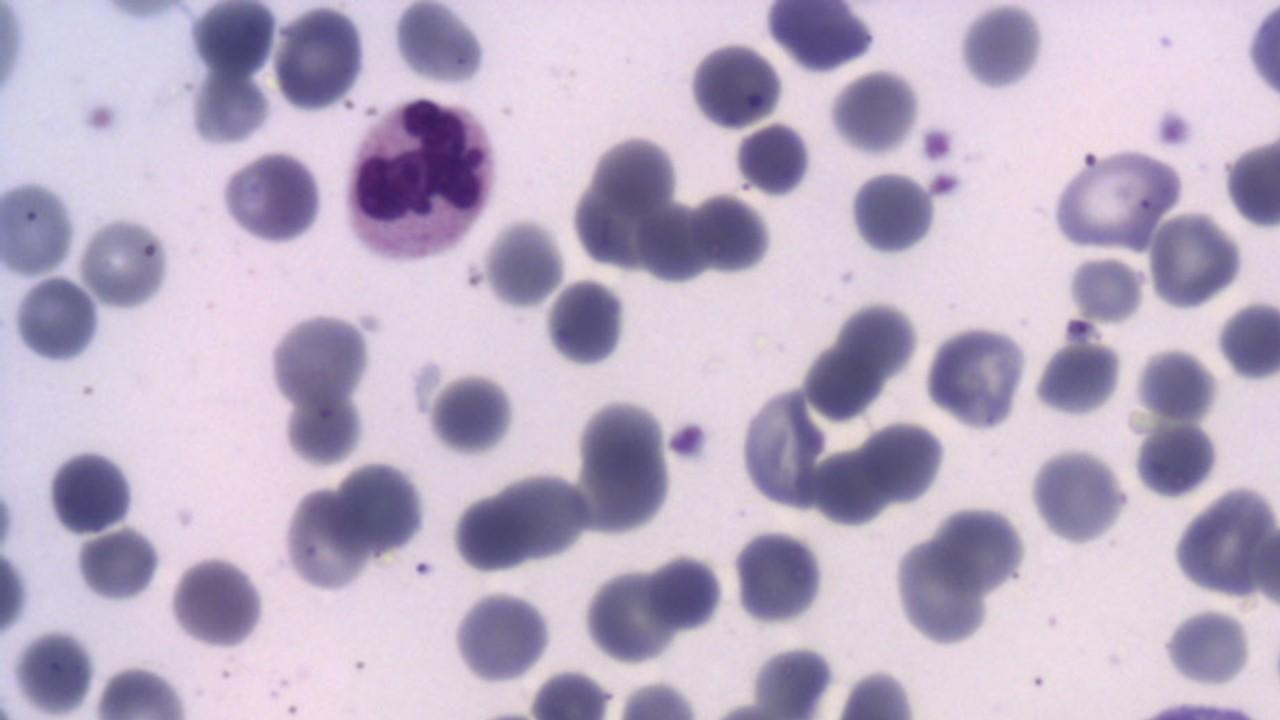Platelets: (920, 324, 1031, 434), (447, 586, 560, 686), (217, 147, 328, 248), (164, 552, 273, 652), (729, 526, 831, 626), (684, 37, 786, 134), (43, 442, 138, 540), (389, 4, 495, 90), (7, 623, 100, 717), (956, 1, 1048, 96), (426, 368, 518, 462), (542, 274, 632, 370), (10, 275, 104, 364), (480, 216, 566, 313), (1159, 603, 1255, 689), (846, 169, 940, 256), (1029, 336, 1123, 422), (688, 192, 780, 278), (1130, 420, 1220, 502), (72, 527, 166, 605), (279, 392, 369, 468), (732, 119, 816, 200), (644, 552, 726, 633), (1222, 132, 1280, 232), (1215, 300, 1277, 382), (1244, 1, 1280, 106), (0, 2, 32, 120), (0, 546, 34, 640), (660, 416, 714, 464), (1150, 104, 1198, 152), (918, 121, 957, 165), (0, 481, 19, 554), (928, 167, 966, 201)
RBC: (1046, 147, 1184, 253), (1168, 480, 1276, 602), (737, 380, 827, 514), (924, 319, 1028, 433), (217, 144, 328, 250), (265, 307, 378, 410), (164, 550, 270, 652), (270, 3, 366, 115), (1025, 445, 1129, 548), (76, 208, 174, 313), (580, 563, 678, 667), (280, 482, 371, 594), (1146, 208, 1242, 312), (389, 1, 490, 88), (826, 67, 922, 158), (481, 214, 568, 311), (10, 273, 102, 364), (0, 175, 77, 277), (690, 188, 775, 279), (187, 62, 274, 149), (1030, 338, 1122, 420), (186, 0, 278, 80), (638, 197, 714, 288), (1131, 347, 1217, 422), (1221, 127, 1279, 234), (0, 0, 28, 125), (0, 544, 31, 640)
WBC: (884, 292, 1080, 464), (337, 90, 506, 266), (444, 470, 598, 574), (886, 526, 1012, 652), (1166, 480, 1280, 602), (218, 142, 334, 251), (919, 320, 1029, 432), (1024, 443, 1134, 550), (446, 586, 562, 682), (331, 459, 430, 563), (683, 38, 788, 132), (760, 1, 884, 74), (43, 446, 141, 535), (71, 526, 165, 604), (1130, 421, 1220, 501), (1244, 0, 1280, 117)
